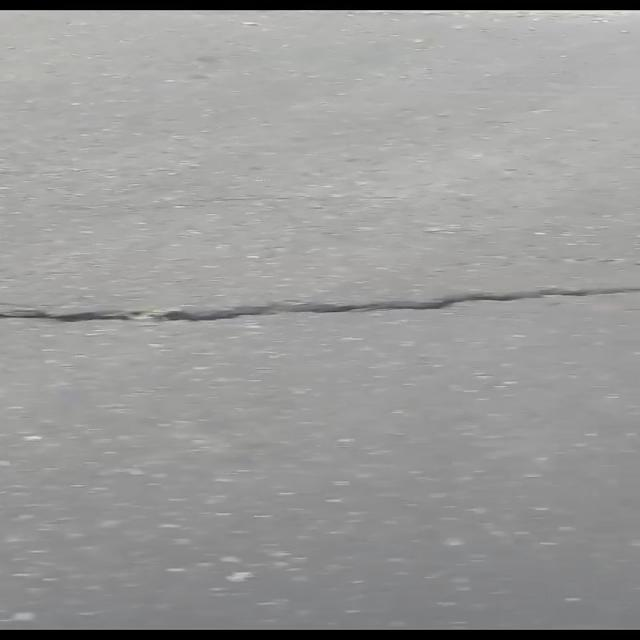Melintang: (1, 272, 640, 336)
